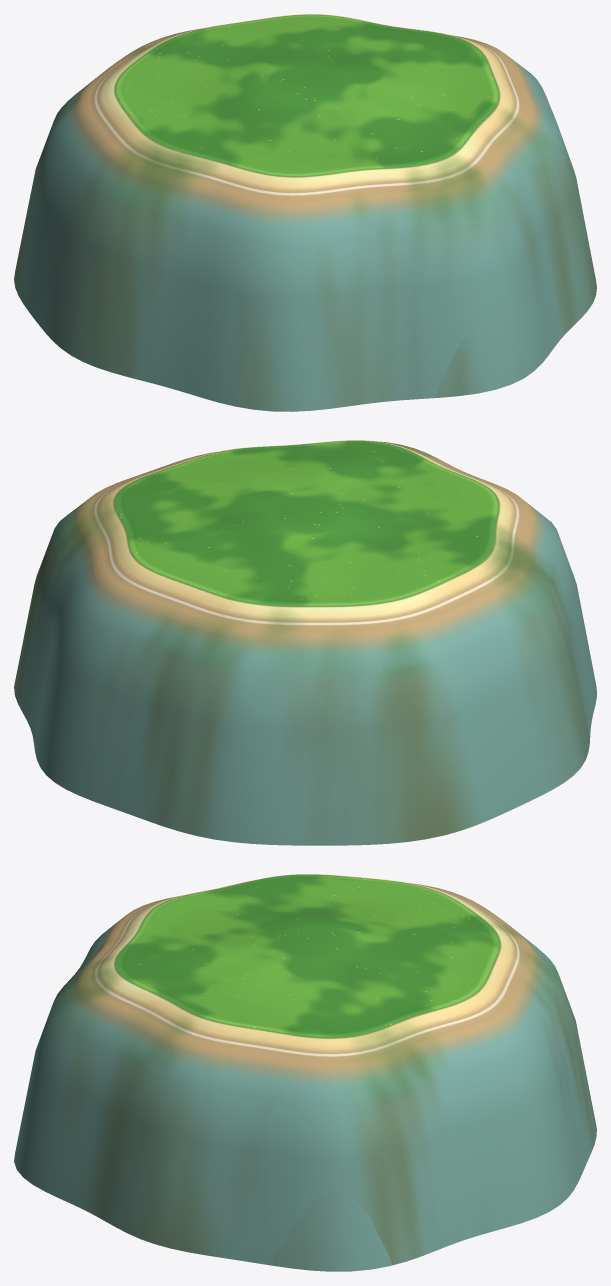
Rendered from flat_0.glb.
The picture shows the model from 3 angles, top to bottom: view 1: azimuth 30°, elevation 25°; view 2: azimuth 150°, elevation 25°; view 3: azimuth 270°, elevation 25°; orthographic projection. The views are drawn at different scales.
Parts seen in each view (by area): view 1: flat_0; view 2: flat_0; view 3: flat_0.
Part boxes in pixels (<box>): flat_0: <box>14,14,596,411</box>; flat_0: <box>14,440,596,845</box>; flat_0: <box>14,874,596,1271</box>.
Bounding box in the file's own units: 32.03 × 12.23 × 31.89.
Materials: 1 (1 with a texture image).
